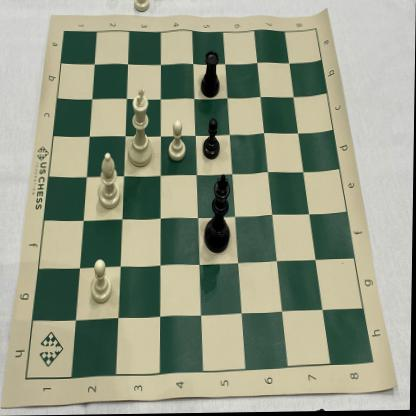black-king: (202, 173, 235, 259)
black-pawn: (203, 118, 221, 165)
black-rook: (198, 49, 222, 101)
white-bishop: (96, 151, 124, 211)
white-king: (128, 88, 155, 170)
white-pawn: (91, 257, 113, 306), (167, 118, 188, 164)
